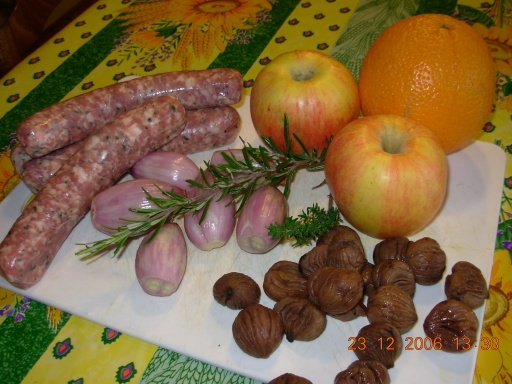background: (146, 7, 397, 152), (0, 40, 194, 174), (42, 45, 149, 178)
